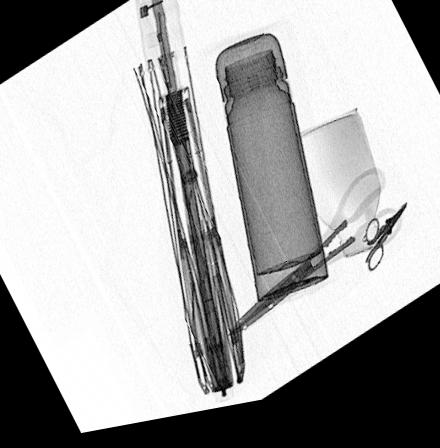Scissors: (225, 179, 403, 346), (358, 215, 409, 286)
